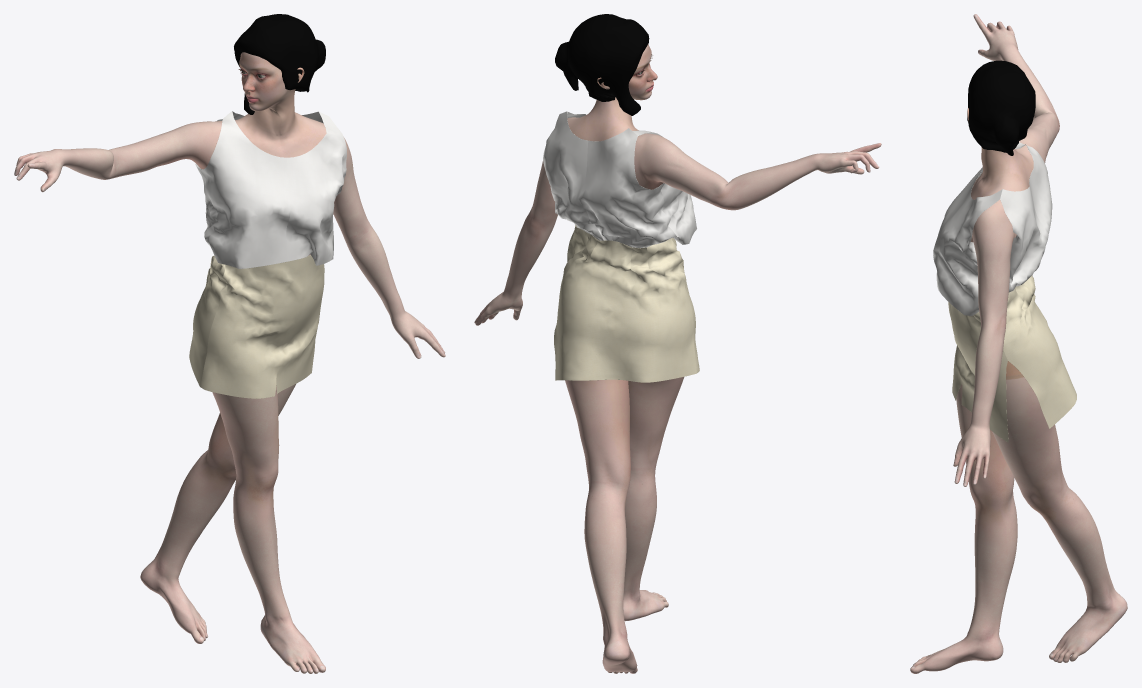
The model's file is Dynamic_2.obj.
3 renders of one model, left to right at view 1: azimuth 30°, elevation 25°; view 2: azimuth 150°, elevation 25°; view 3: azimuth 270°, elevation 25°, orthographic. The views are drawn at different scales.
Size of the model in its own units: 1226 by 1775 by 569.
